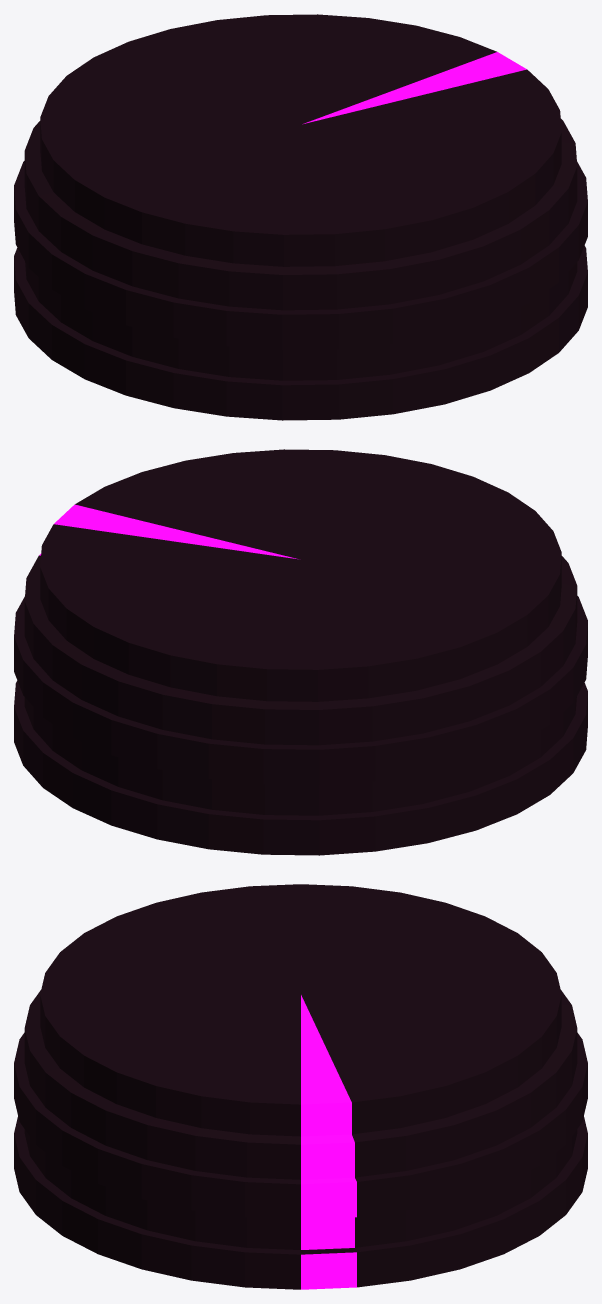
File: SMGTurretTaban.fbx
The picture shows the model from 3 angles, top to bottom: view 1: azimuth 30°, elevation 25°; view 2: azimuth 150°, elevation 25°; view 3: azimuth 270°, elevation 25°; orthographic projection.
Parts seen in each view (by area): view 1: taban; view 2: taban; view 3: taban.
Boxes of the visible parts, <box> form: taban: <box>14,14,587,420</box>; taban: <box>14,449,587,855</box>; taban: <box>14,884,587,1289</box>.
Size of the model in its own units: 349 by 349 by 117.
